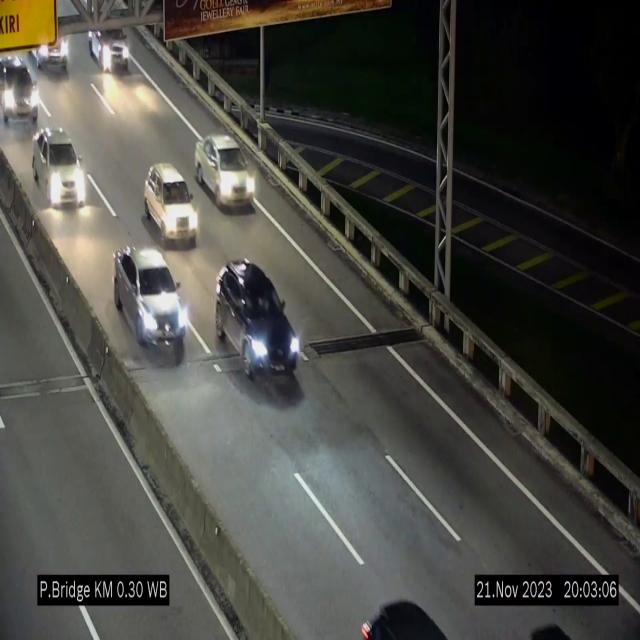Car: (217, 265, 302, 385), (114, 246, 190, 360), (33, 132, 93, 214), (144, 163, 199, 246), (194, 134, 254, 210)
